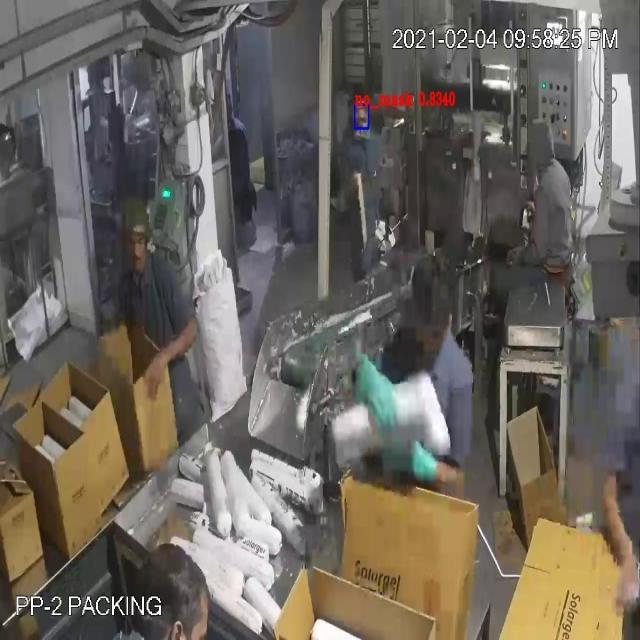No_Gloves: (45, 70, 618, 518)
